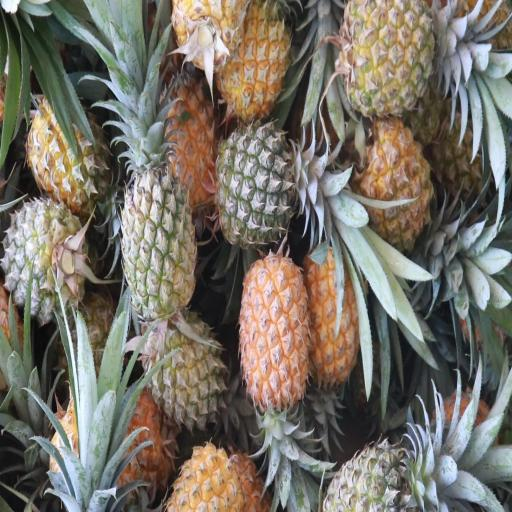------------------------------: (120, 142, 197, 309), (342, 0, 438, 116), (139, 301, 224, 416), (25, 100, 110, 204)
Pineapple - v8 v1: (238, 243, 310, 401), (361, 112, 438, 241), (303, 236, 364, 382), (154, 75, 220, 205), (216, 0, 289, 100)
